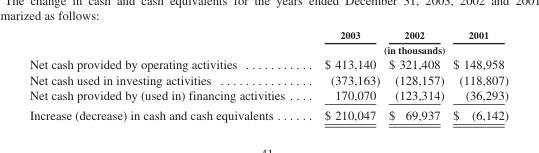table: (28, 28, 507, 121)
table column: (28, 28, 303, 121), (303, 28, 383, 121), (383, 28, 447, 121), (447, 28, 507, 121)
table column header: (28, 28, 507, 56)
table row: (28, 86, 507, 104), (28, 104, 507, 121), (28, 56, 507, 71), (28, 71, 507, 86), (28, 28, 507, 42), (28, 42, 507, 56)
table spanning cell: (303, 42, 507, 56)
